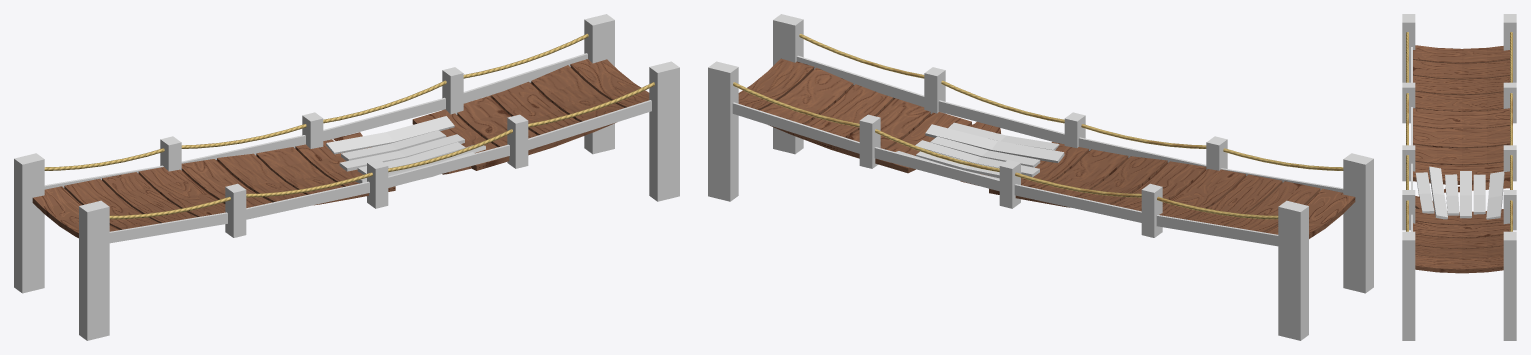
File: ponte.fbx
3 views of the same model, side by side, from view 1: azimuth 30°, elevation 25°; view 2: azimuth 150°, elevation 25°; view 3: azimuth 270°, elevation 25° (orthographic). The views are drawn at different scales.
Visible parts, largest first — view 1: Cube, Plane.004, Plane, Cube.013; view 2: Cube, Plane, Plane.004, Cube.013; view 3: Cube, Plane.004, Plane, Cube.013.
Boxes of the visible parts, x1,y1,x2,y2 form: Cube: [32, 59, 649, 238]; Plane.004: [79, 61, 679, 340]; Plane: [14, 14, 614, 293]; Cube.013: [326, 116, 485, 183]; Cube: [738, 58, 1355, 238]; Plane: [708, 61, 1308, 340]; Plane.004: [773, 14, 1373, 293]; Cube.013: [895, 122, 1064, 179]; Cube: [1413, 45, 1509, 273]; Plane.004: [1402, 14, 1415, 340]; Plane: [1503, 14, 1516, 340]; Cube.013: [1415, 166, 1504, 219].
Size of the model in its own units: 1326 by 275 by 284.
